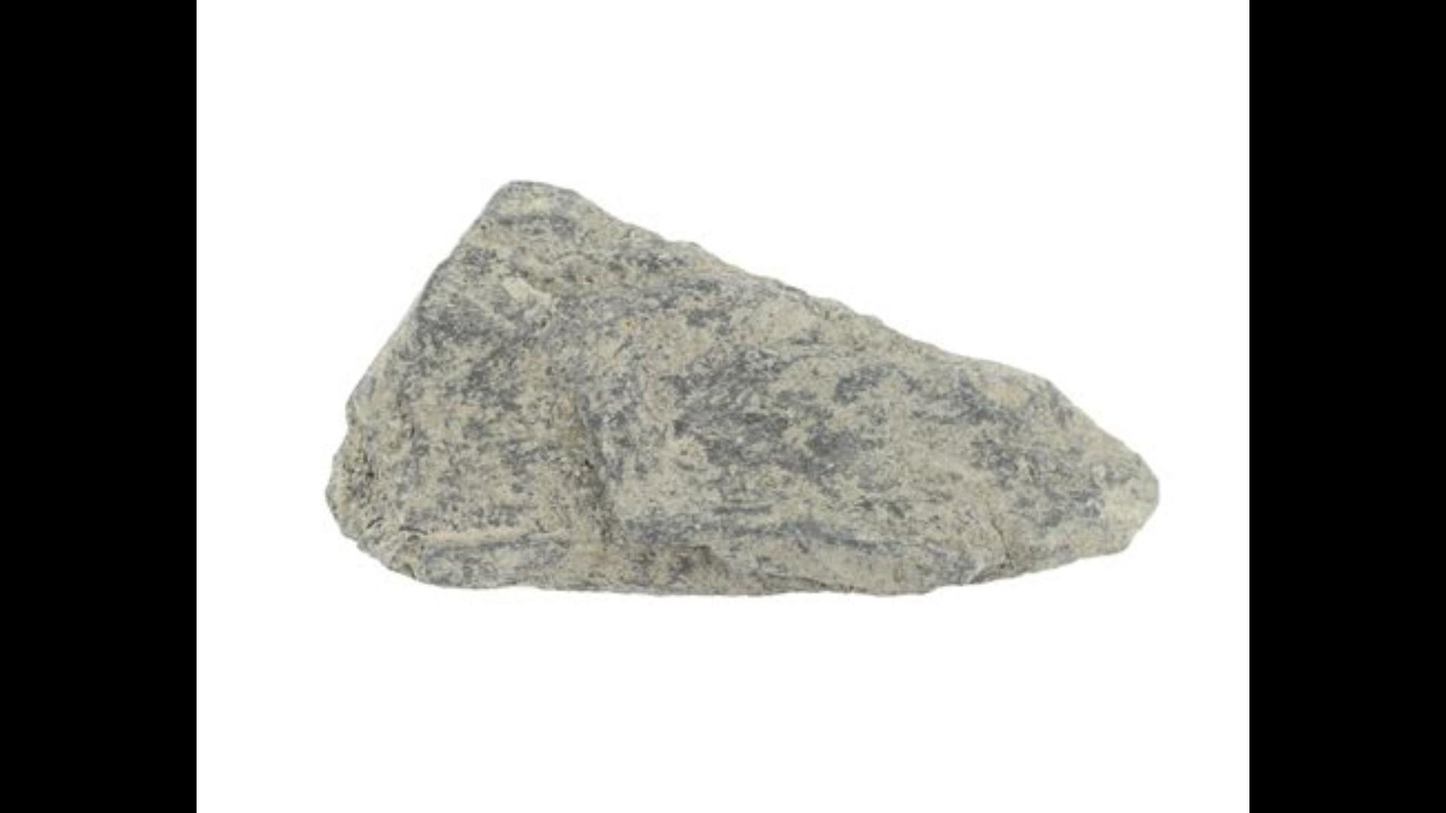rock: (328, 182, 1157, 591)
